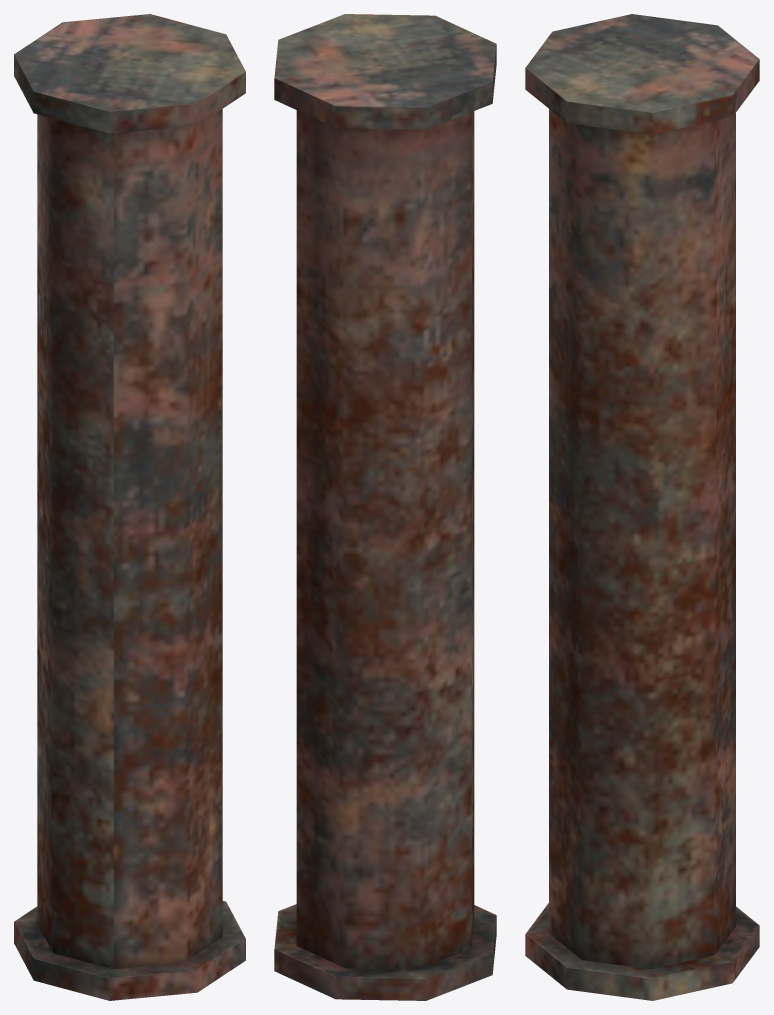
Rendered from Pipe_Long.FBX.
The picture shows the model from 3 angles, left to right: view 1: azimuth 30°, elevation 25°; view 2: azimuth 150°, elevation 25°; view 3: azimuth 270°, elevation 25°; orthographic projection.
Parts seen in each view (by area): view 1: Pipe_Long; view 2: Pipe_Long; view 3: Pipe_Long.
Part boxes in pixels (x1,y1,x2,y2): Pipe_Long: [14, 14, 245, 1000]; Pipe_Long: [274, 14, 496, 1000]; Pipe_Long: [525, 14, 759, 1000].
Bounding box in the file's own units: 99.61 × 417 × 99.61.
